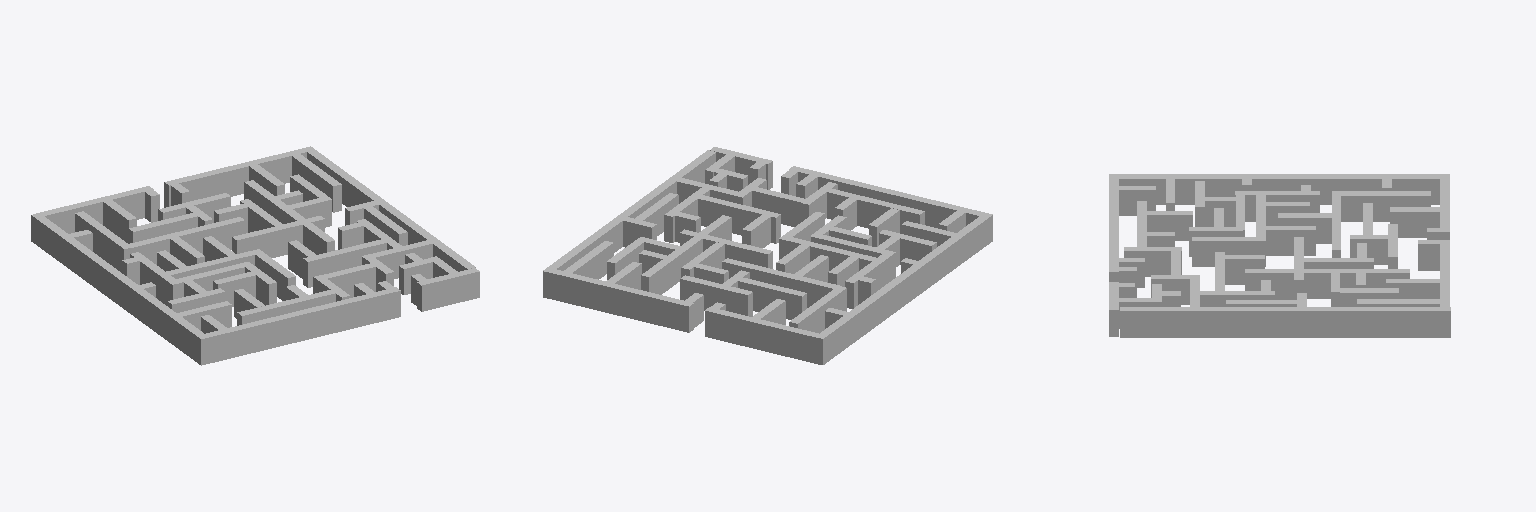
File: maze.obj
3 renders of one model, left to right at view 1: azimuth 30°, elevation 25°; view 2: azimuth 150°, elevation 25°; view 3: azimuth 270°, elevation 25°, orthographic.
Visible parts, largest first — view 1: Plane.056_Plane.116, Plane.001_Plane.062, Plane.037_Plane.038, Plane.058_Plane.118, Plane.057_Plane.117, Plane.045_Plane.105, Plane.059_Plane.119, Plane.048_Plane.108, Plane.049_Plane.109, Plane.032_Plane.093, Plane.052_Plane.112, Plane.027_Plane.088 (+23 smaller); view 2: Plane.001_Plane.062, Plane.058_Plane.118, Plane.059_Plane.119, Plane.037_Plane.038, Plane.056_Plane.116, Plane.045_Plane.105, Plane.049_Plane.109, Plane.044_Plane.104, Plane.011_Plane.072, Plane.052_Plane.112, Plane.046_Plane.106, Plane.048_Plane.108 (+24 smaller); view 3: Plane.037_Plane.038, Plane.001_Plane.062, Plane.032_Plane.093, Plane.011_Plane.072, Plane.007_Plane.068, Plane.031_Plane.092, Plane.013_Plane.074, Plane.010_Plane.071, Plane.015_Plane.076, Plane.018_Plane.079, Plane.056_Plane.116, Plane.004_Plane.065 (+20 smaller).
Boxes of the visible parts, x1=… form: Plane.056_Plane.116: x1=196, y1=287, x2=400, y2=365; Plane.001_Plane.062: x1=31, y1=213, x2=203, y2=361; Plane.037_Plane.038: x1=304, y1=146, x2=475, y2=271; Plane.058_Plane.118: x1=164, y1=147, x2=311, y2=207; Plane.057_Plane.117: x1=417, y1=268, x2=479, y2=311; Plane.045_Plane.105: x1=129, y1=217, x2=244, y2=264; Plane.059_Plane.119: x1=36, y1=186, x2=153, y2=233; Plane.048_Plane.108: x1=232, y1=216, x2=324, y2=257; Plane.049_Plane.109: x1=303, y1=239, x2=386, y2=287; Plane.032_Plane.093: x1=75, y1=211, x2=131, y2=272; Plane.052_Plane.112: x1=237, y1=288, x2=340, y2=325; Plane.027_Plane.088: x1=291, y1=154, x2=341, y2=212; Plane.001_Plane.062: x1=815, y1=216, x2=987, y2=364; Plane.058_Plane.118: x1=546, y1=268, x2=693, y2=332; Plane.059_Plane.119: x1=705, y1=307, x2=820, y2=364; Plane.037_Plane.038: x1=543, y1=150, x2=715, y2=298; Plane.056_Plane.116: x1=789, y1=166, x2=992, y2=244; Plane.045_Plane.105: x1=722, y1=258, x2=840, y2=307; Plane.049_Plane.109: x1=698, y1=195, x2=780, y2=243; Plane.044_Plane.104: x1=680, y1=275, x2=752, y2=316; Plane.011_Plane.072: x1=641, y1=236, x2=702, y2=294; Plane.052_Plane.112: x1=822, y1=188, x2=924, y2=233; Plane.046_Plane.106: x1=736, y1=277, x2=806, y2=319; Plane.048_Plane.108: x1=680, y1=229, x2=772, y2=268; Plane.037_Plane.038: x1=1120, y1=307, x2=1450, y2=337; Plane.001_Plane.062: x1=1119, y1=174, x2=1449, y2=204; Plane.032_Plane.093: x1=1332, y1=191, x2=1430, y2=221; Plane.011_Plane.072: x1=1303, y1=269, x2=1409, y2=298; Plane.007_Plane.068: x1=1192, y1=237, x2=1255, y2=266; Plane.031_Plane.092: x1=1390, y1=207, x2=1448, y2=237; Plane.013_Plane.074: x1=1266, y1=226, x2=1315, y2=255; Plane.010_Plane.071: x1=1245, y1=269, x2=1293, y2=299; Plane.015_Plane.076: x1=1235, y1=191, x2=1319, y2=221; Plane.018_Plane.079: x1=1147, y1=211, x2=1192, y2=240; Plane.056_Plane.116: x1=1109, y1=174, x2=1118, y2=281; Plane.004_Plane.065: x1=1124, y1=247, x2=1181, y2=276.
Size of the model in its own units: 27.86 by 2.5 by 29.36.